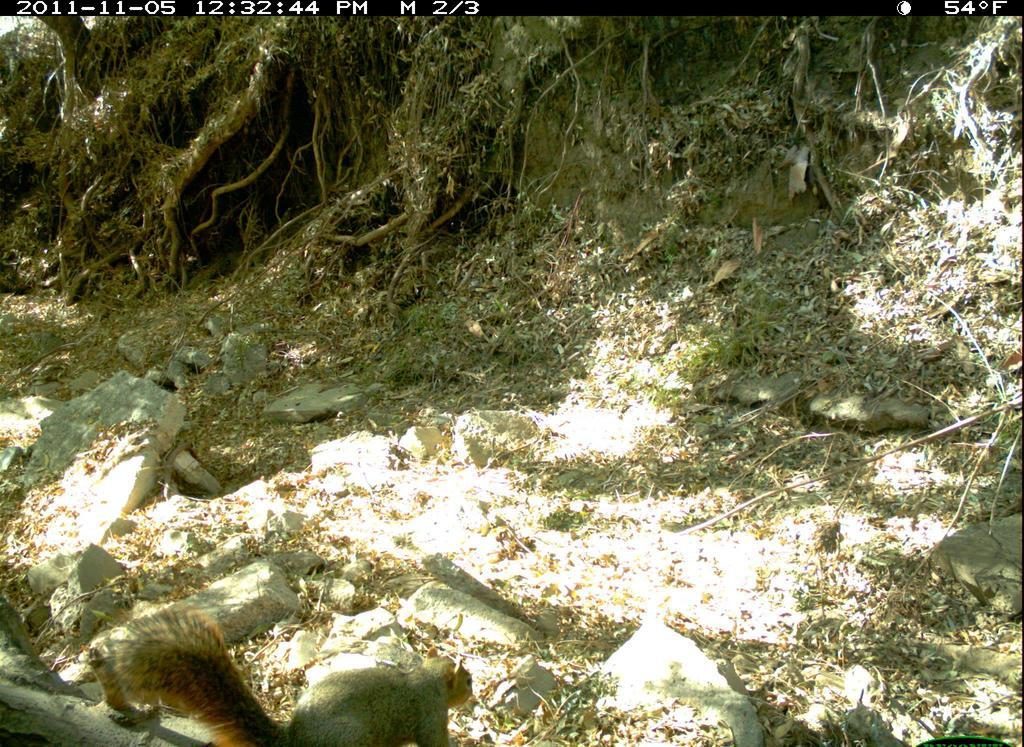squirrel: (108, 610, 477, 739)
